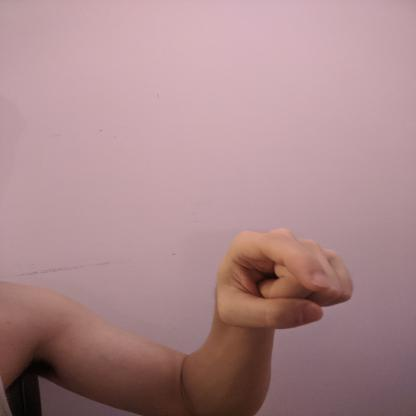Z: (210, 226, 358, 332)
